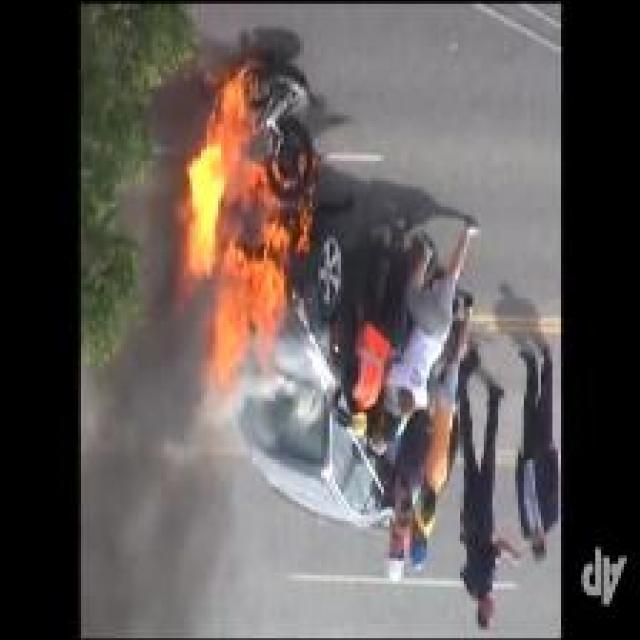Fire: (182, 67, 308, 393)
